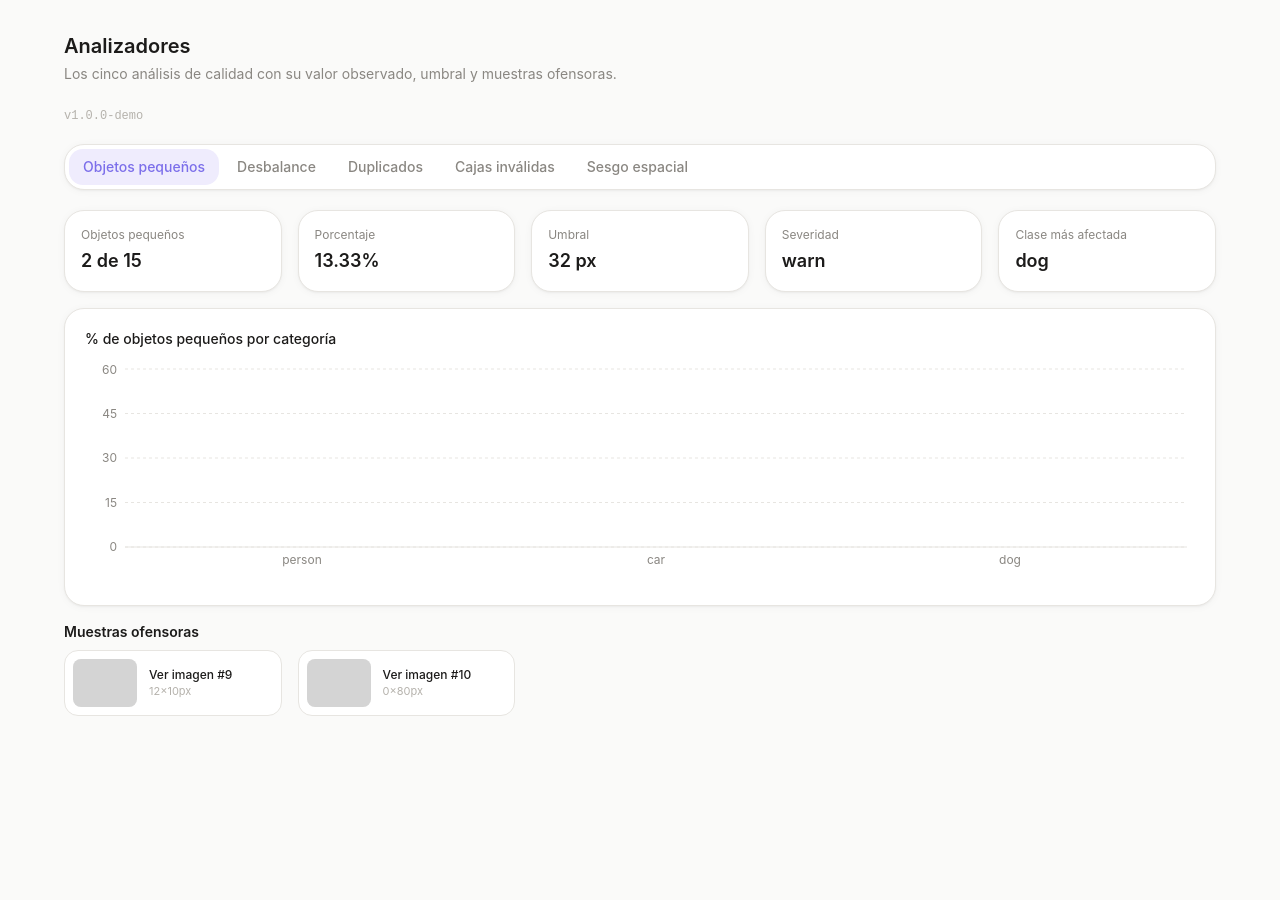
SPEC-QUALITY-UI-003 — Analyzers › cambia a la pestaña de cajas inválidas y muestra el motivo
The image size is (1280, 900).
Click the tab "Cajas inválidas" at (505, 167), box [441,149,569,185]
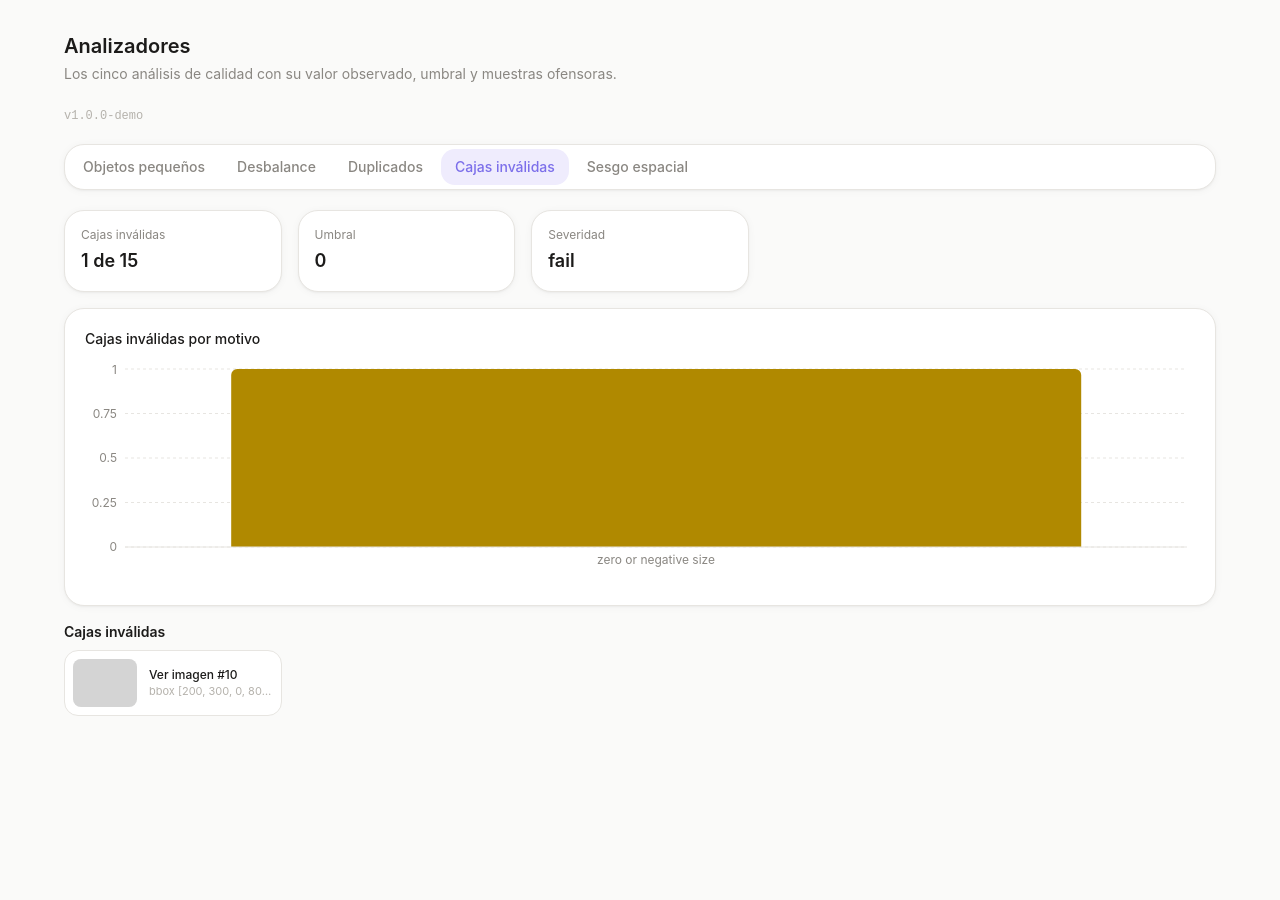
Result: the text "bbox [200, 300, 0, 80] · zero_or_negative_size" is shown at [149,683,273,699]
